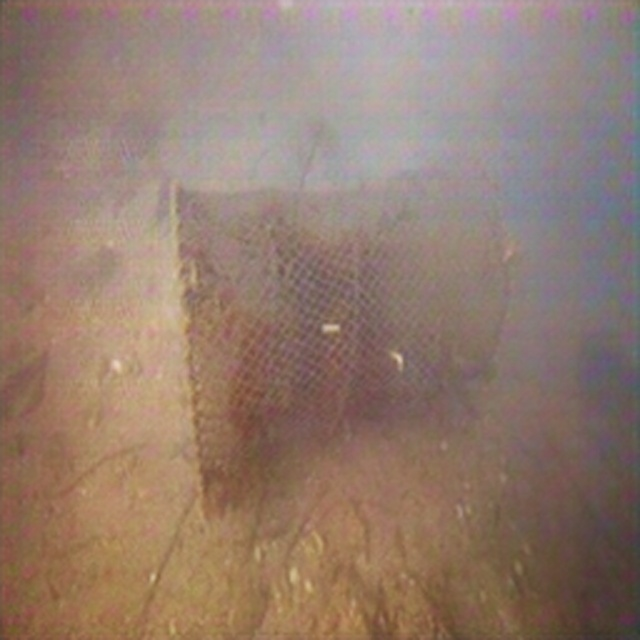mine: (171, 147, 510, 507)
